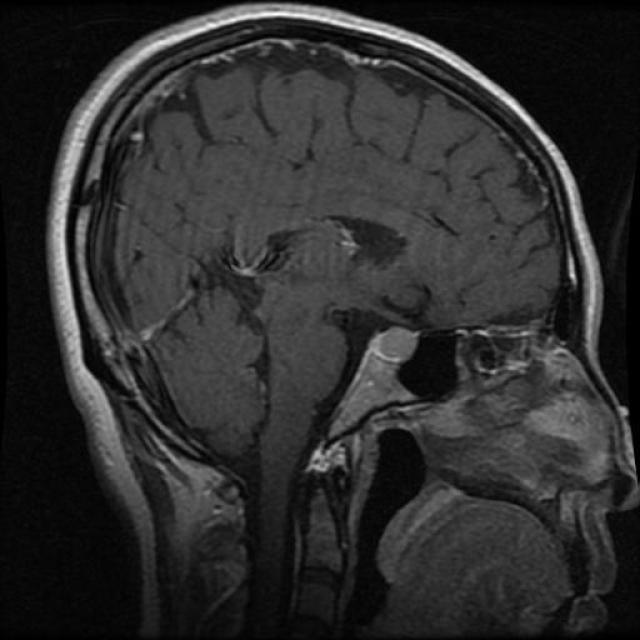pituitary: (338, 304, 426, 408)
